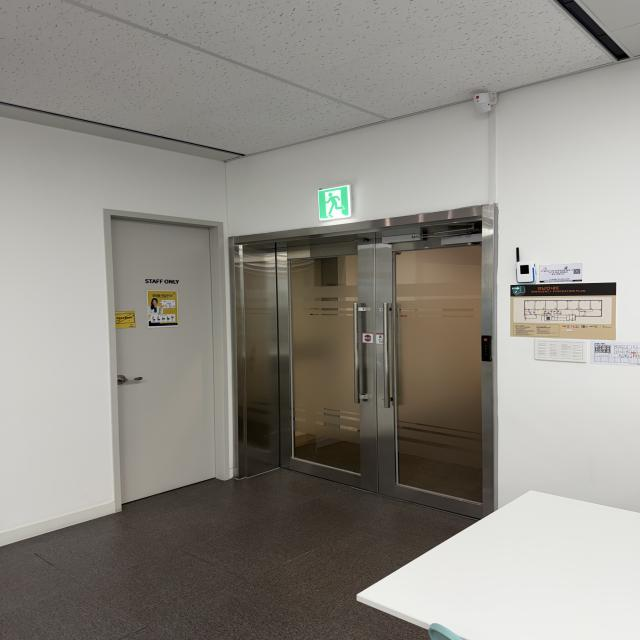rear_door: (289, 244, 490, 515)
